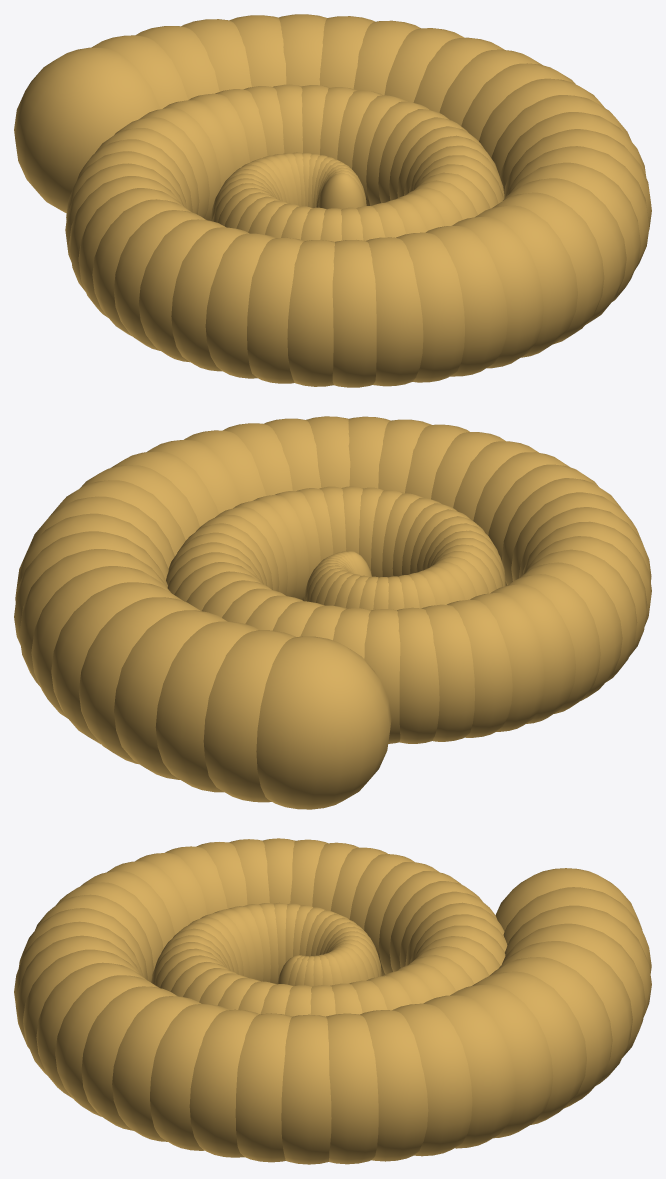
File: DummyAmmonite.fbx
3 views of the same model, one above another, from view 1: azimuth 30°, elevation 25°; view 2: azimuth 150°, elevation 25°; view 3: azimuth 270°, elevation 25° (orthographic). The views are drawn at different scales.
Parts seen in each view (by area): view 1: Spiral chamber.094, Spiral chamber.070, Spiral chamber.069, Spiral chamber.068, Spiral chamber.071, Spiral chamber.072, Spiral chamber.067, Spiral chamber.073, Spiral chamber.066, Spiral chamber.074, Spiral chamber.065, Spiral chamber.075 (+62 smaller); view 2: Spiral chamber.094, Spiral chamber.093, Spiral chamber.092, Spiral chamber.091, Spiral chamber.090, Spiral chamber.089, Spiral chamber.056, Spiral chamber.058, Spiral chamber.057, Spiral chamber.059, Spiral chamber.088, Spiral chamber.060 (+63 smaller); view 3: Spiral chamber.084, Spiral chamber.082, Spiral chamber.083, Spiral chamber.085, Spiral chamber.081, Spiral chamber.086, Spiral chamber.080, Spiral chamber.087, Spiral chamber.079, Spiral chamber.088, Spiral chamber.078, Spiral chamber.089 (+62 smaller).
Boxes of the visible parts, <box> form: Spiral chamber.094: <box>14,47,159,213</box>; Spiral chamber.070: <box>366,237,423,386</box>; Spiral chamber.069: <box>332,240,376,387</box>; Spiral chamber.068: <box>287,240,334,386</box>; Spiral chamber.071: <box>396,232,464,382</box>; Spiral chamber.072: <box>426,225,507,376</box>; Spiral chamber.067: <box>247,237,304,383</box>; Spiral chamber.073: <box>452,216,543,368</box>; Spiral chamber.066: <box>205,233,275,378</box>; Spiral chamber.074: <box>475,205,577,357</box>; Spiral chamber.065: <box>171,227,249,371</box>; Spiral chamber.075: <box>492,192,604,344</box>; Spiral chamber.094: <box>256,636,391,809</box>; Spiral chamber.093: <box>203,630,296,802</box>; Spiral chamber.092: <box>155,621,259,792</box>; Spiral chamber.091: <box>114,610,227,779</box>; Spiral chamber.090: <box>78,597,201,764</box>; Spiral chamber.089: <box>51,582,183,744</box>; Spiral chamber.056: <box>397,607,439,743</box>; Spiral chamber.058: <box>447,599,512,737</box>; Spiral chamber.057: <box>421,604,474,741</box>; Spiral chamber.059: <box>470,593,544,731</box>; Spiral chamber.088: <box>31,566,170,718</box>; Spiral chamber.060: <box>490,584,575,723</box>; Spiral chamber.084: <box>360,1010,428,1161</box>; Spiral chamber.082: <box>281,1014,331,1164</box>; Spiral chamber.083: <box>326,1013,378,1164</box>; Spiral chamber.085: <box>392,1003,472,1156</box>; Spiral chamber.081: <box>235,1013,292,1162</box>; Spiral chamber.086: <box>423,995,516,1148</box>; Spiral chamber.080: <box>189,1009,259,1157</box>; Spiral chamber.087: <box>450,984,553,1138</box>; Spiral chamber.079: <box>150,1004,228,1150</box>; Spiral chamber.088: <box>472,971,586,1124</box>; Spiral chamber.078: <box>112,996,201,1141</box>; Spiral chamber.089: <box>489,957,612,1108</box>.
Bounding box in the file's own units: 0.477 × 0.1358 × 0.5337.
